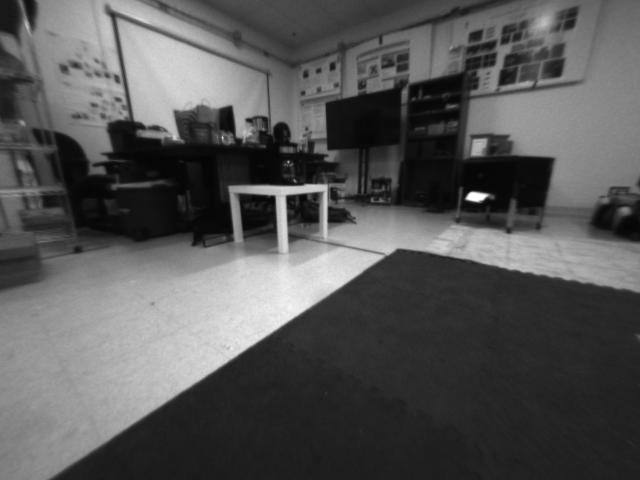coffee_pot: (266, 140, 305, 185)
